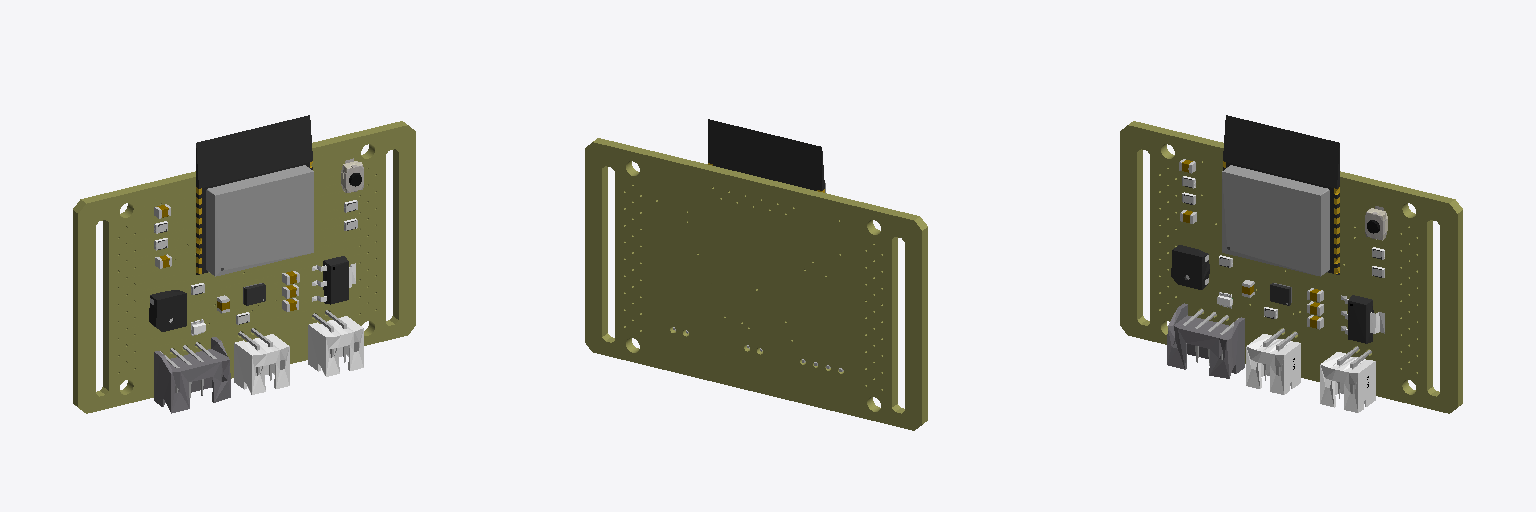
File: 3D_PCB1_2024-02-04.obj
3 renders of one model, left to right at view 1: azimuth 30°, elevation 25°; view 2: azimuth 150°, elevation 25°; view 3: azimuth 330°, elevation 25°, orthographic.
Size of the model in its own units: 53.31 by 37.73 by 8.14.